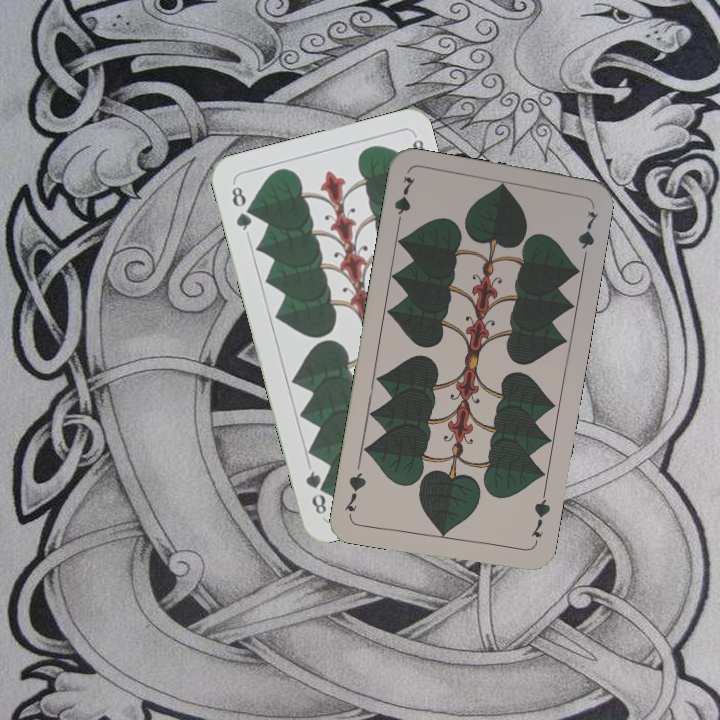G7: (390, 172, 418, 231), (527, 489, 553, 540)
G8: (227, 179, 255, 233)
